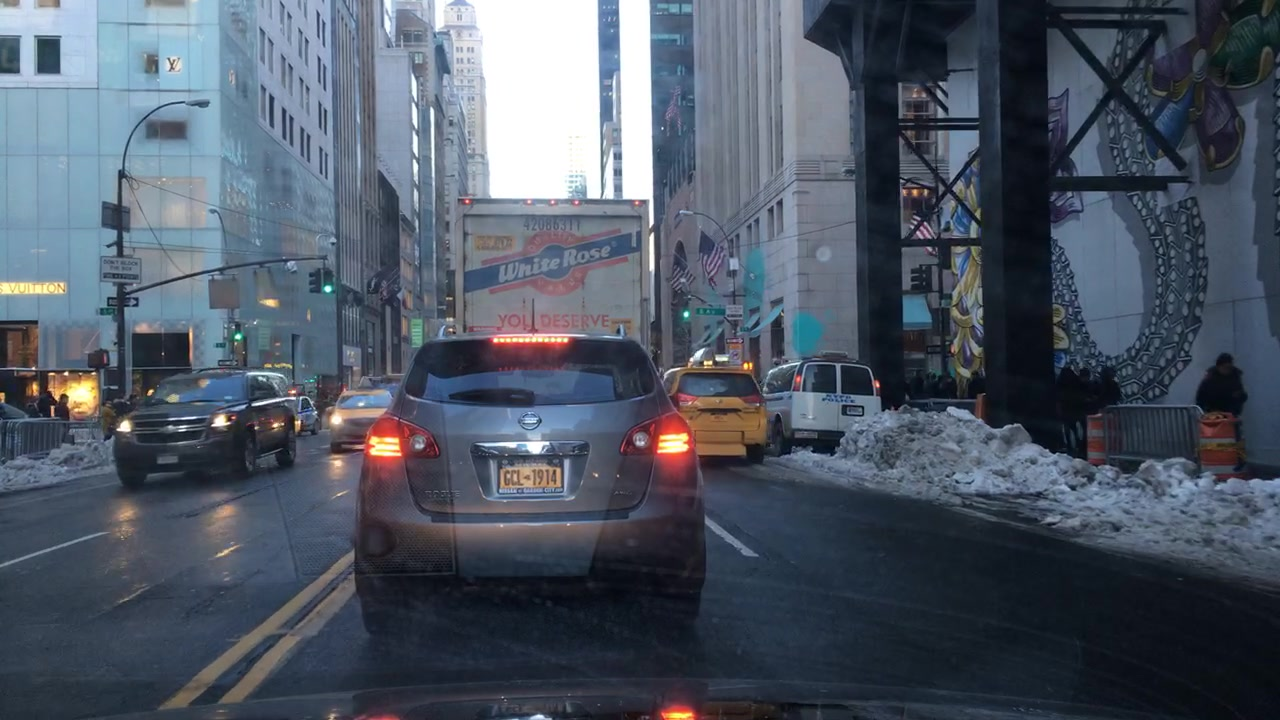licence: (496, 454, 565, 496)
